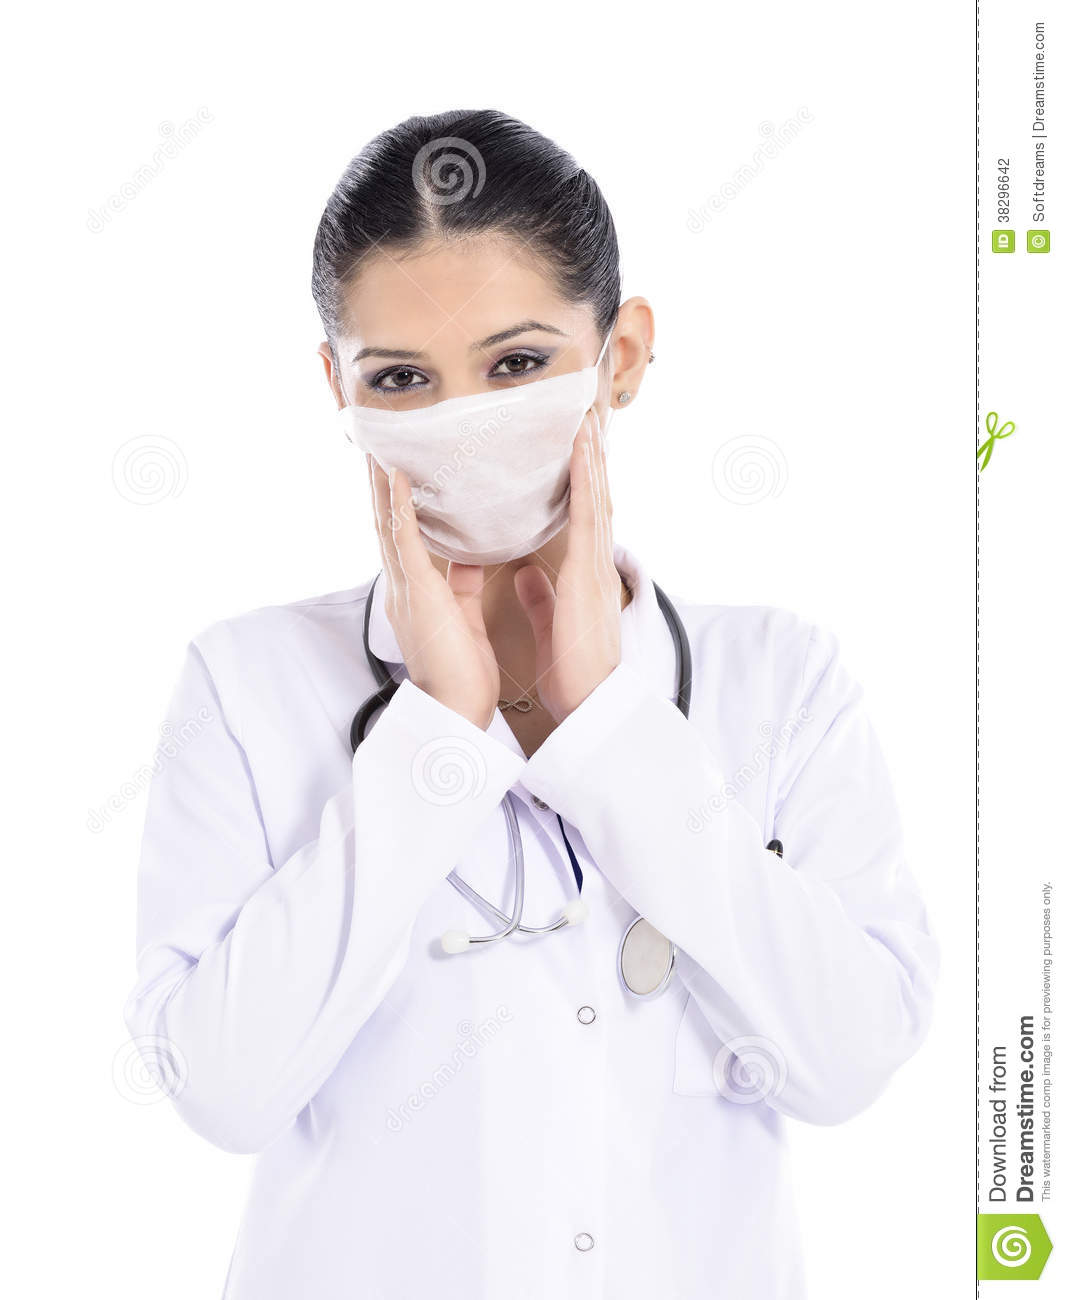mask: (361, 400, 635, 595)
